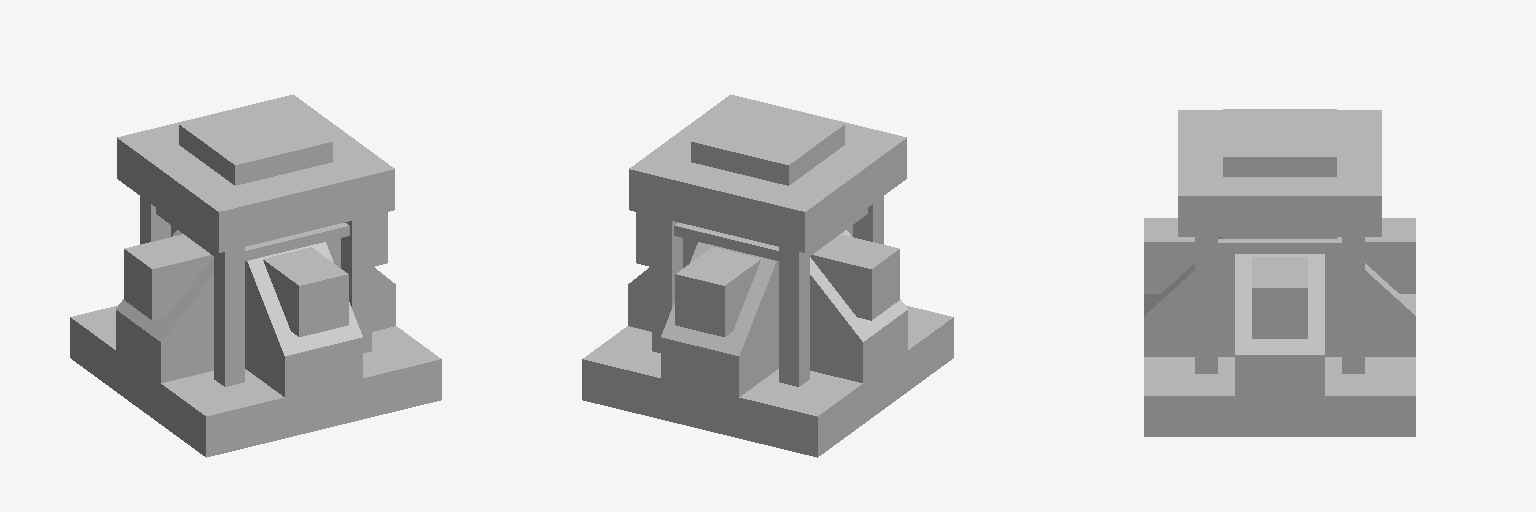
File: lightningrod.obj
3 renders of one model, left to right at view 1: azimuth 30°, elevation 25°; view 2: azimuth 150°, elevation 25°; view 3: azimuth 270°, elevation 25°, orthographic.
Parts seen in each view (by area): view 1: cube; view 2: cube; view 3: cube.
Part boxes in pixels (x1,y1,x2,y2): cube: (70,95,441,457); cube: (582,95,953,457); cube: (1144,109,1415,436).
Size of the model in its own units: 3 by 3 by 3.